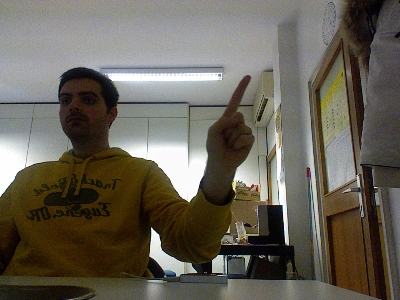食指: (204, 74, 255, 165)
